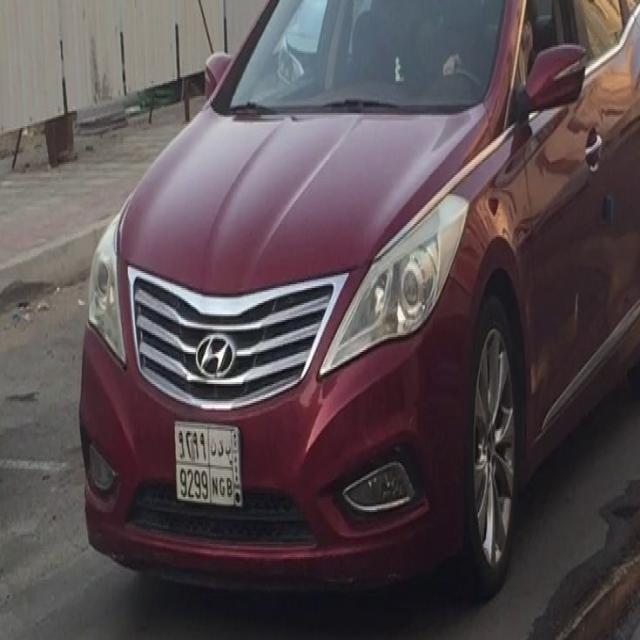Car-plate: (169, 414, 248, 527)
